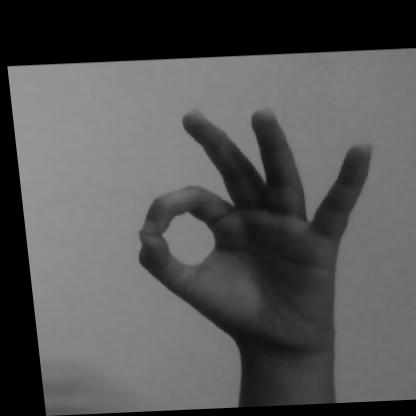ok: (97, 92, 395, 398)
